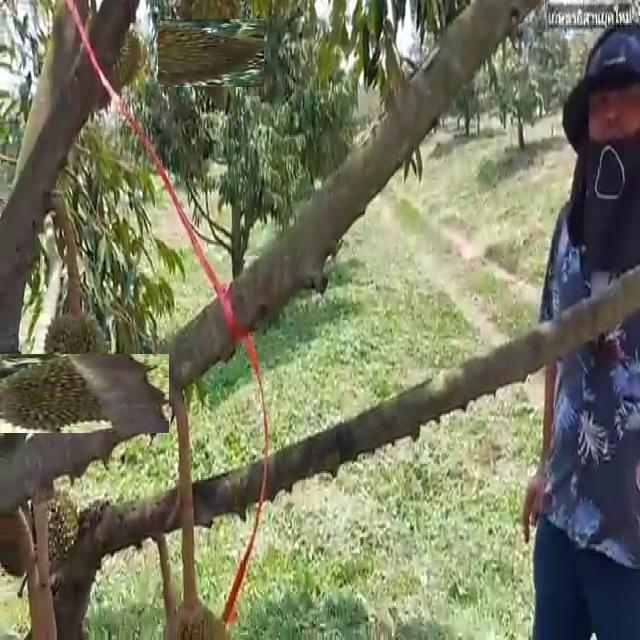durian: (15, 329, 145, 458), (168, 9, 255, 97)
